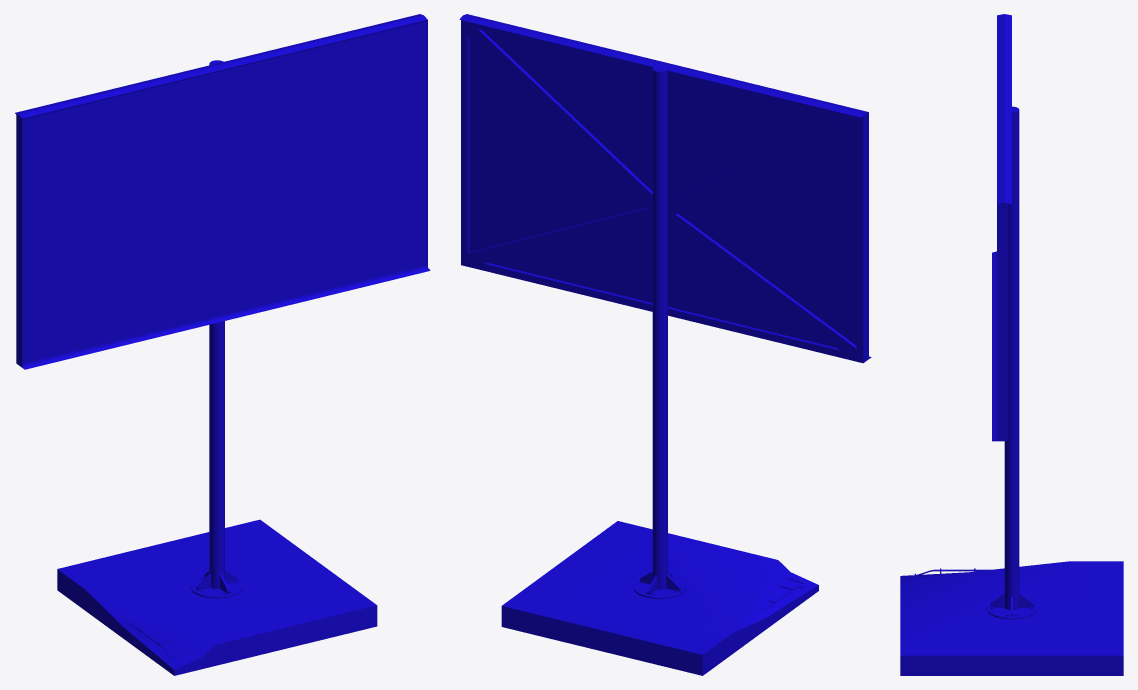
Rendered from BillBoard.fbx.
3 views of the same model, side by side, from view 1: azimuth 30°, elevation 25°; view 2: azimuth 150°, elevation 25°; view 3: azimuth 270°, elevation 25° (orthographic). The views are drawn at different scales.
Parts seen in each view (by area): view 1: Box003; view 2: Box003; view 3: Box003.
Boxes of the visible parts, x1,y1,x2,y2 form: Box003: (15,14,430,675); Box003: (459,14,871,675); Box003: (900,14,1123,675).
Bounding box in the file's own units: 236 × 304 × 118.
